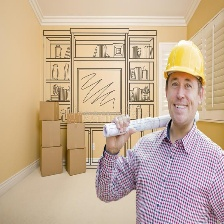helmet: (159, 38, 208, 90)
no-vest: (128, 125, 223, 224)
person: (97, 37, 223, 224)
